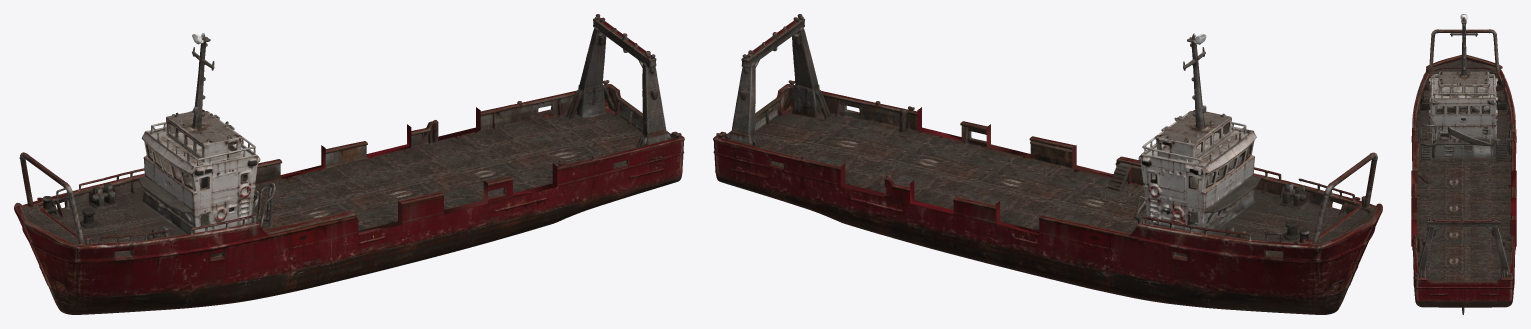
Rendered from m4_barco_hd_opt.glb.
3 views of the same model, side by side, from view 1: azimuth 30°, elevation 25°; view 2: azimuth 150°, elevation 25°; view 3: azimuth 270°, elevation 25° (orthographic). The views are drawn at different scales.
Bounding box in the file's own units: 1.9 × 0.7174 × 0.426.
1 material, 1 textured.
